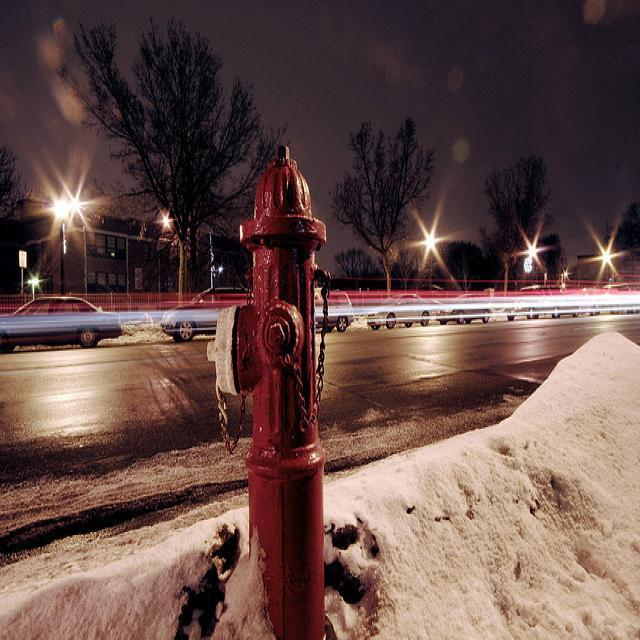fire_hydrant: (204, 142, 332, 634)
